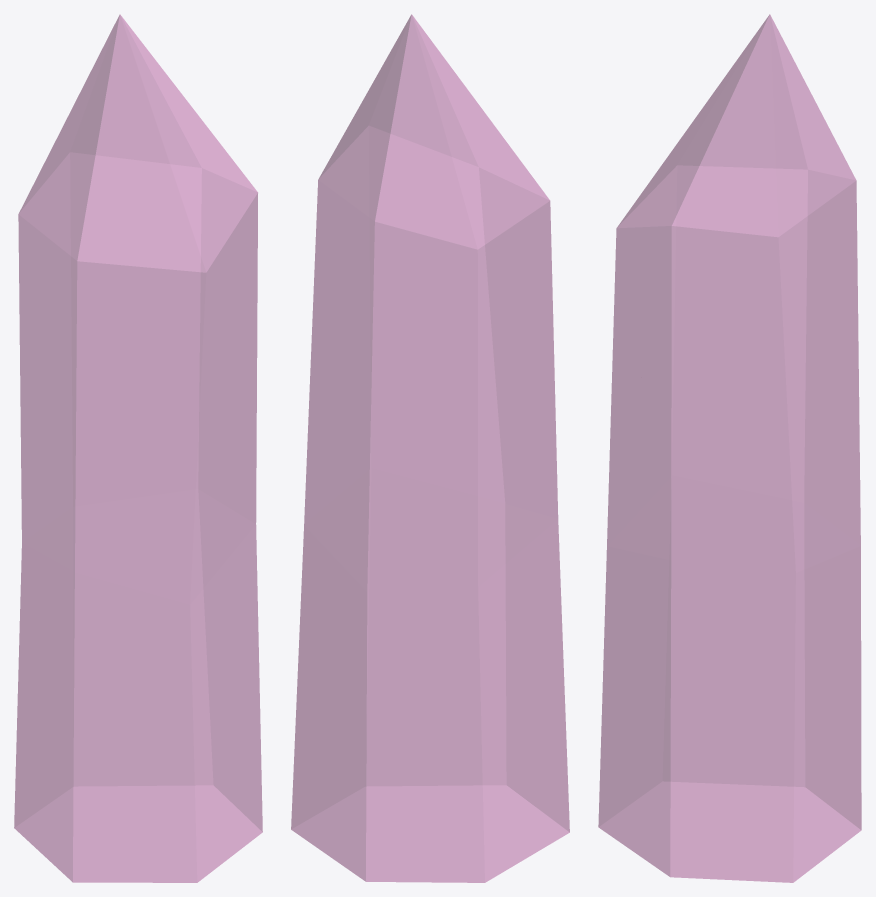
File: Crystal1.fbx
The picture shows the model from 3 angles, left to right: view 1: azimuth 30°, elevation 25°; view 2: azimuth 150°, elevation 25°; view 3: azimuth 270°, elevation 25°; orthographic projection. The views are drawn at different scales.
Parts seen in each view (by area): view 1: Crystal1; view 2: Crystal1; view 3: Crystal1.
Boxes of the visible parts, left/top/right/bottom form: Crystal1: left=14, top=14, right=262, bottom=882; Crystal1: left=291, top=14, right=569, bottom=882; Crystal1: left=598, top=14, right=861, bottom=882.
Bounding box in the file's own units: 0.9028 × 3.39 × 0.9889.
